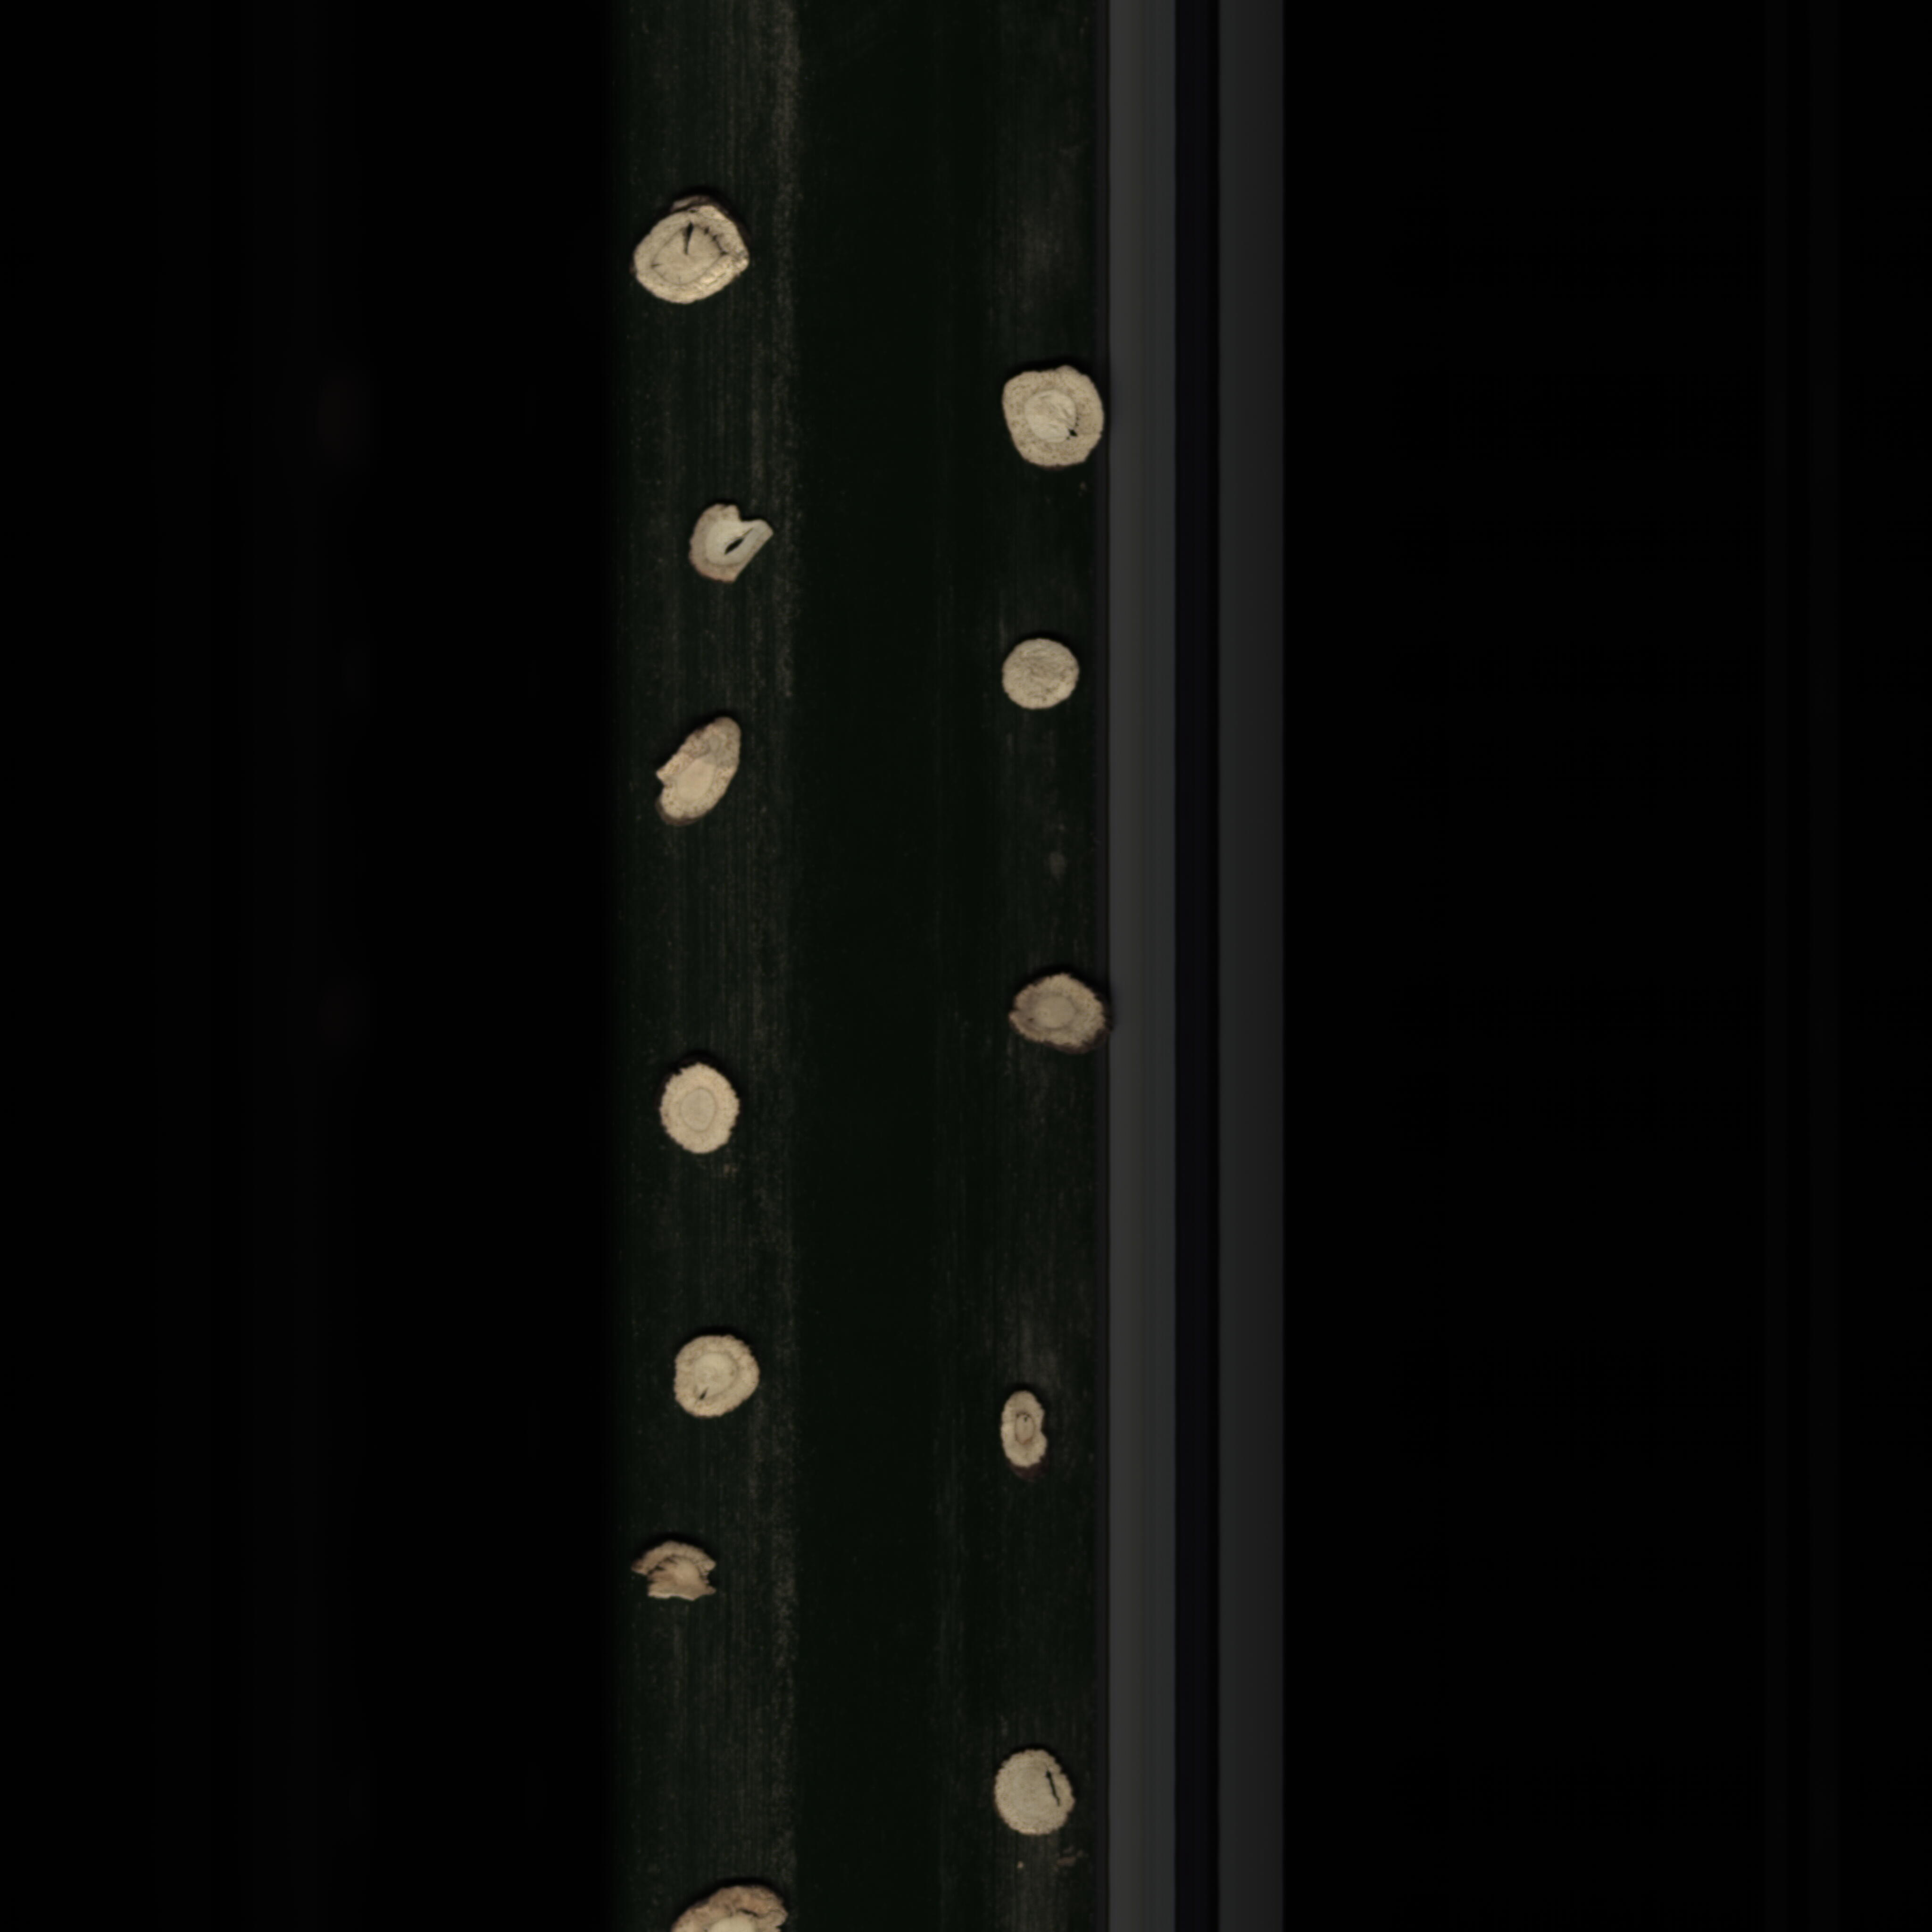debris: (676, 494, 794, 602), (623, 1534, 725, 1615)
distortion: (644, 708, 759, 846), (993, 1378, 1053, 1484)
hole: (617, 193, 764, 311), (980, 1743, 1081, 1858)
moldy: (1005, 968, 1115, 1060), (653, 1879, 801, 1932)
